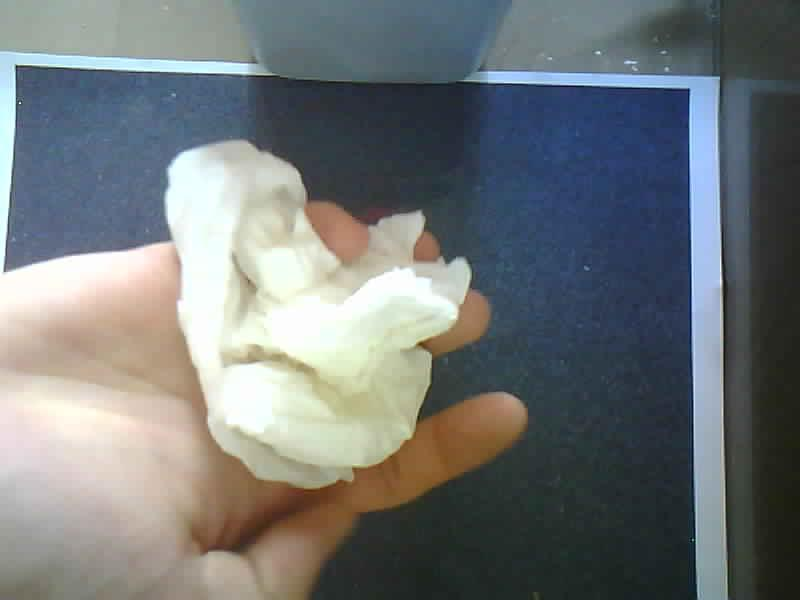paper: (166, 141, 469, 488)
